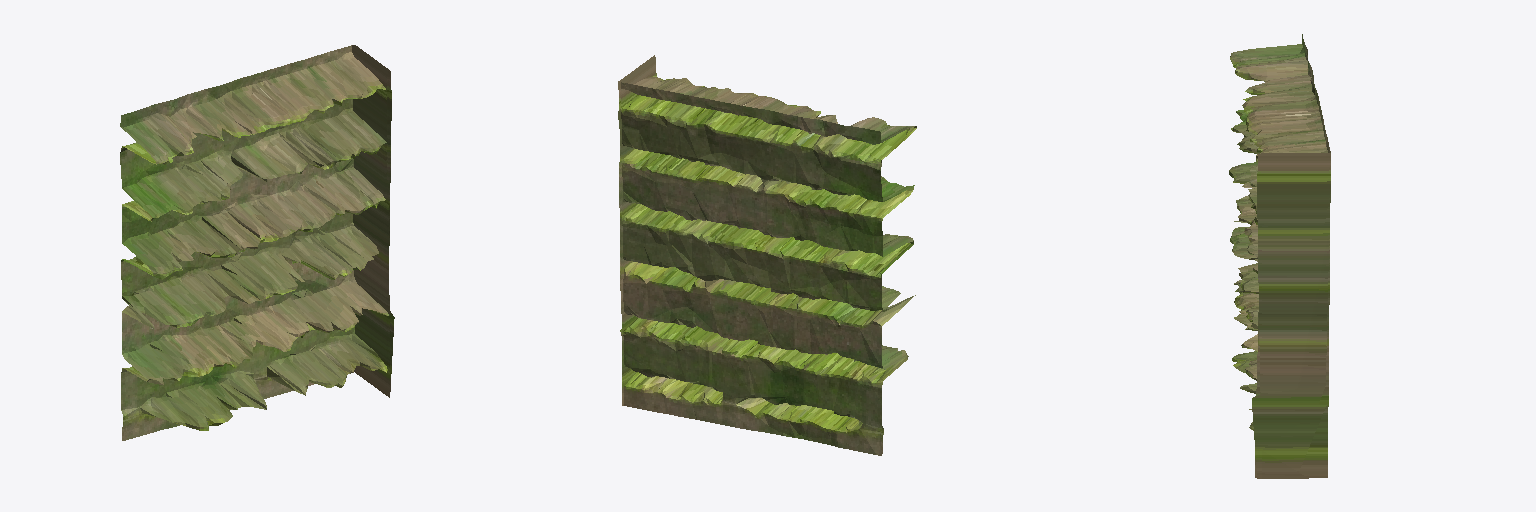
3 renders of one model, left to right at view 1: azimuth 30°, elevation 25°; view 2: azimuth 150°, elevation 25°; view 3: azimuth 270°, elevation 25°, orthographic.
Visible parts, largest first — view 1: grp1; view 2: grp1; view 3: grp1.
Boxes of the visible parts, x1,y1,x2,y2 form: grp1: [120, 45, 394, 440]; grp1: [618, 55, 916, 455]; grp1: [1229, 34, 1330, 478].
Size of the model in its own units: 8 by 10 by 2.87.
1 materials, 1 textured.